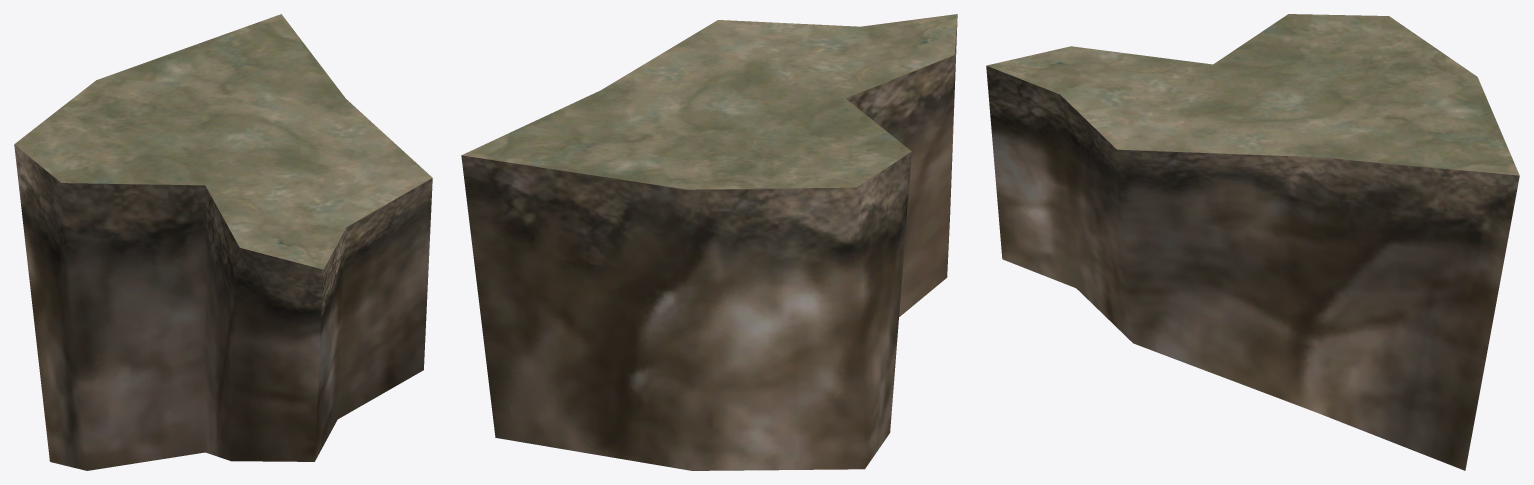
The model's file is ANIMATEDINSTANCES_ROCKFALL_04__BA.fbx.
3 views of the same model, side by side, from view 1: azimuth 30°, elevation 25°; view 2: azimuth 150°, elevation 25°; view 3: azimuth 270°, elevation 25° (orthographic). The views are drawn at different scales.
Parts seen in each view (by area): view 1: ANIMATEDINSTANCES_ROCKFALL_04__BA; view 2: ANIMATEDINSTANCES_ROCKFALL_04__BA; view 3: ANIMATEDINSTANCES_ROCKFALL_04__BA.
Part boxes in pixels (x1,y1,x2,y2): ANIMATEDINSTANCES_ROCKFALL_04__BA: (14, 14, 432, 470); ANIMATEDINSTANCES_ROCKFALL_04__BA: (461, 14, 957, 470); ANIMATEDINSTANCES_ROCKFALL_04__BA: (986, 14, 1519, 470).
Bounding box in the file's own units: 13579 × 11693 × 18943.
Materials: 2 (2 with a texture image).
